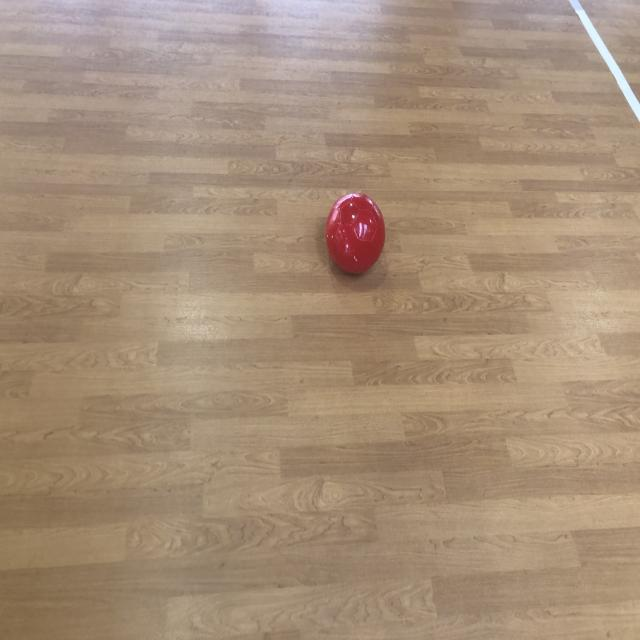red_ball: (326, 193, 386, 276)
